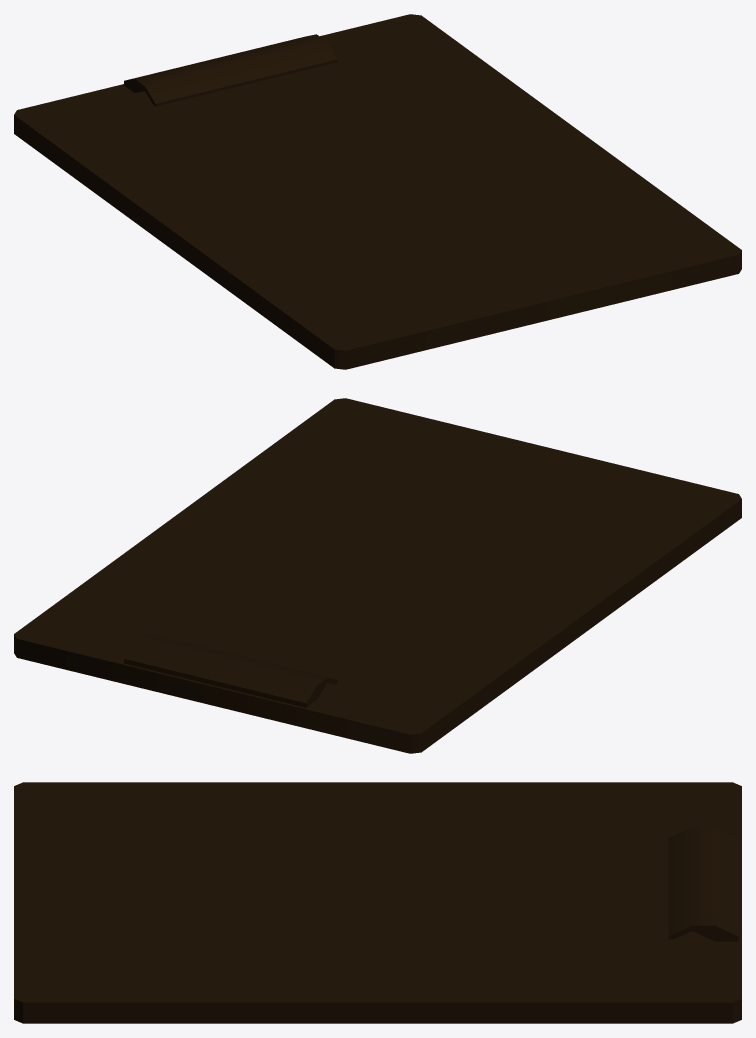
File: Clipboard.FBX
3 renders of one model, top to bottom at view 1: azimuth 30°, elevation 25°; view 2: azimuth 150°, elevation 25°; view 3: azimuth 270°, elevation 25°, orthographic. The views are drawn at different scales.
Visible parts, largest first — view 1: Clipboard; view 2: Clipboard; view 3: Clipboard.
Boxes of the visible parts, bbox=[...] form: Clipboard: bbox=[14, 14, 741, 369]; Clipboard: bbox=[14, 398, 741, 753]; Clipboard: bbox=[14, 782, 741, 1023].
Bounding box in the file's own units: 22.36 × 31.25 × 1.76.
